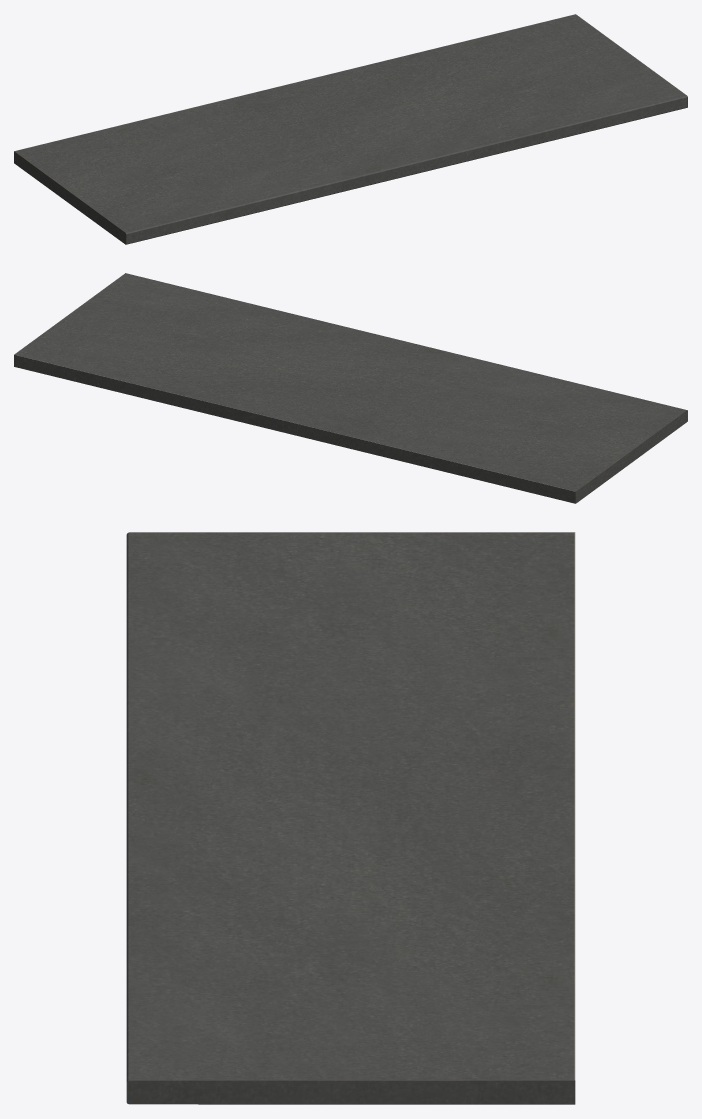
Rendered from saeljan_countertop_dark_gray_stone_effec.glb.
The picture shows the model from 3 angles, top to bottom: view 1: azimuth 30°, elevation 25°; view 2: azimuth 150°, elevation 25°; view 3: azimuth 270°, elevation 25°; orthographic projection. The views are drawn at different scales.
Parts seen in each view (by area): view 1: ASY_ART_30604329_S01_NV01; view 2: ASY_ART_30604329_S01_NV01; view 3: ASY_ART_30604329_S01_NV01.
Boxes of the visible parts, box(x1,y1,x2,y2) form: ASY_ART_30604329_S01_NV01: box(14, 14, 687, 244); ASY_ART_30604329_S01_NV01: box(14, 273, 687, 503); ASY_ART_30604329_S01_NV01: box(126, 532, 575, 1104).
Size of the model in its own units: 1.88 by 0.0386 by 0.6502.
1 material, 1 textured.
